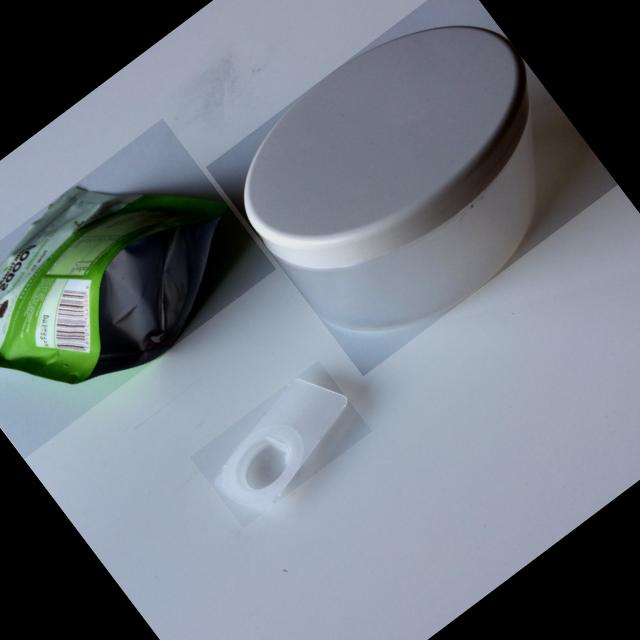Other container: (244, 26, 537, 332), (211, 379, 347, 513)
Other plastic: (0, 187, 228, 385)
